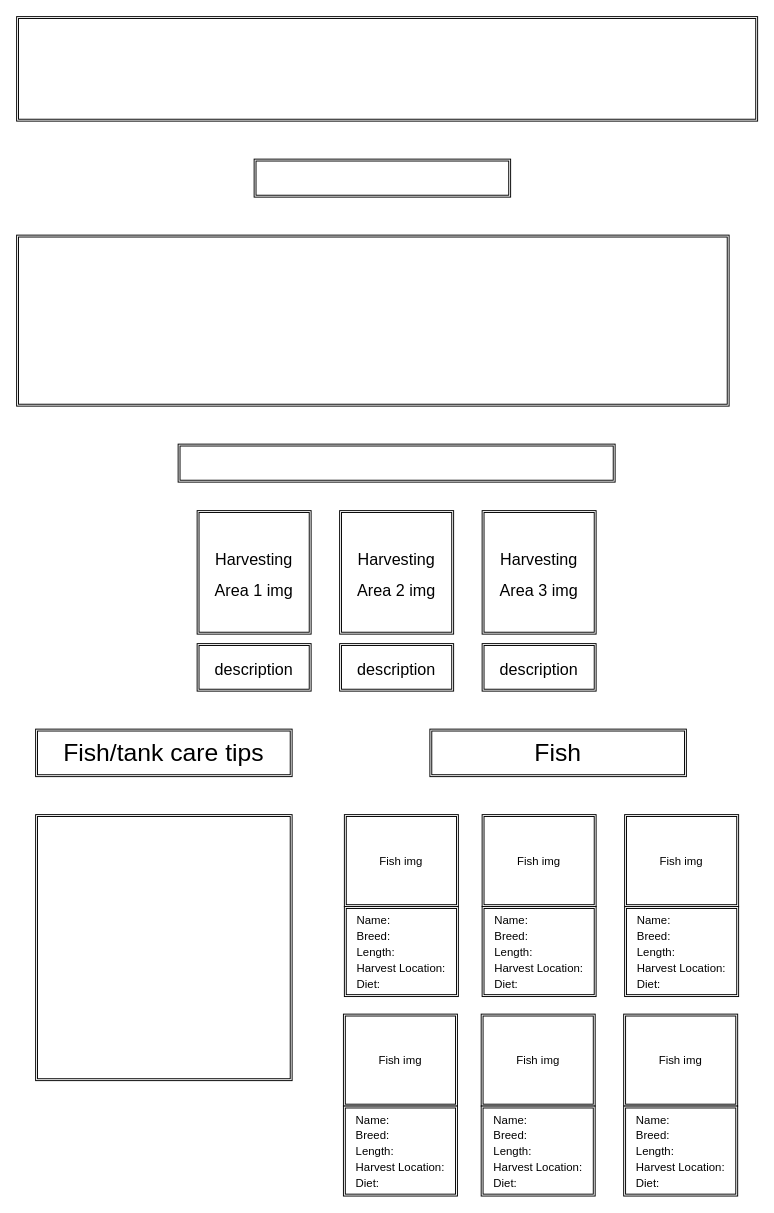
Image size: 774x1213. Some labels were removed from this diagram. Each missing label, with the centre of its shape:
Fish collecting/harvesting areas: point (396, 462)
Martin's Aquarium Logo: point (387, 68)
tip 1 tip 2 tip 3: point (372, 320)
tip 1 tip 2 tip 3 tip 4: point (163, 947)
Travel Tips: point (382, 177)
